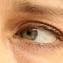eye: (21, 29, 38, 39)
